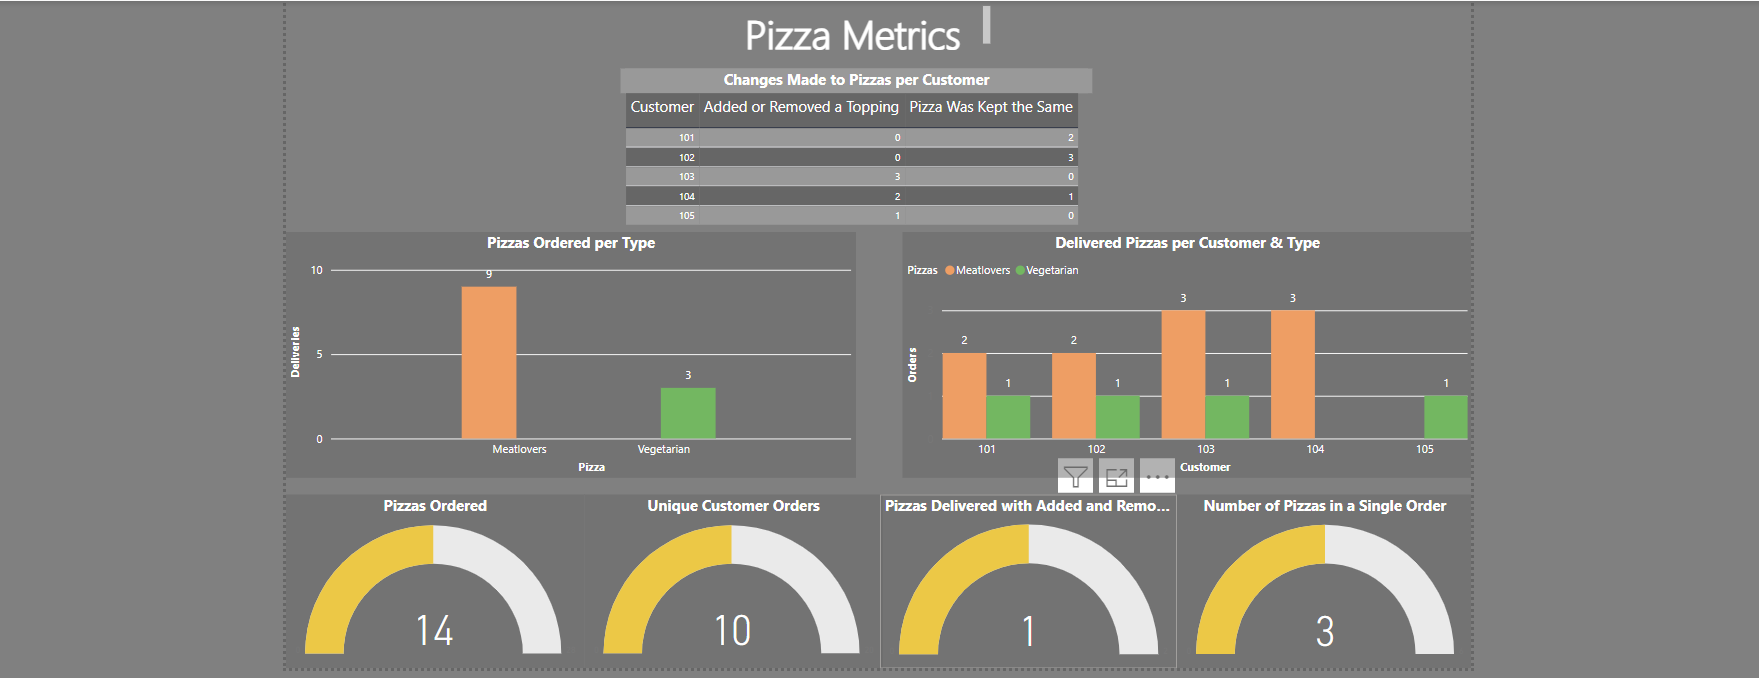

This screenshot's page, from the dashboard's own definition file:
{"tool":"powerbi","page":{"name":"Pizza Metrics","canvas":[1280,720],"ordinal":0},"visuals":[{"type":"gauge","title":"Highest Number of Pizzas Delivered in a Single Order","fields":{"Y":["CountNonNull(Query6.pizza_count)"]},"box":[957.8,532.3,322,187.7],"z":0},{"type":"gauge","title":"Pizzas Ordered","fields":{"Y":["Sum(Query1.pizza_count)"]},"box":[0,532.7,322.2,187.8],"z":1000},{"type":"gauge","title":"Unique Customer Orders","fields":{"Y":["Sum(Query2.order_count)"]},"box":[322,532.3,322,187.7],"z":2000},{"type":"tableEx","title":"Changes Made to Pizzas per Customer","fields":{"Values":["Query7.customer_id","Query7.at_least_1_change","Query7.no_changes"]},"box":[360.8,72.3,509.7,176.4],"z":3000},{"type":"gauge","title":"Pizzas Delivered with Added and Removed Toppings","fields":{"Y":["Sum(Query8.order_count)"]},"box":[640.7,532.3,320.4,187.7],"z":4000},{"type":"textbox","box":[466,0,299.3,58.2],"z":5000},{"type":"clusteredColumnChart","title":"Pizzas Ordered per Type","fields":{"Category":["Query4.pizza_name"],"Y":["Sum(Query4.pizza_count)"],"Series":["Query4.pizza_name"]},"box":[0,249.4,615.3,265.6],"z":6000},{"type":"clusteredColumnChart","title":"Delivered Pizzas per Customer & Type","fields":{"Y":["Sum(Query5.pizza_count)"],"Category":["Query5.customer_id"],"Series":["Query5.pizza_name"]},"box":[665.5,249.4,615.3,265.6],"z":7000}]}

Visuals, with their boxes on the page's 1280x720 design canvas (x1, y1, x2, y2). These are canvas units, not pixel positions in the 1759x678 screenshot, which may show the page scaled, cropped or inside an application window:
"Highest Number of Pizzas Delivered in a Single Order" gauge: (left=958, top=532, right=1280, bottom=720)
"Pizzas Ordered" gauge: (left=0, top=533, right=322, bottom=720)
"Unique Customer Orders" gauge: (left=322, top=532, right=644, bottom=720)
"Changes Made to Pizzas per Customer" tableEx: (left=361, top=72, right=870, bottom=249)
"Pizzas Delivered with Added and Removed Toppings" gauge: (left=641, top=532, right=961, bottom=720)
textbox: (left=466, top=0, right=765, bottom=58)
"Pizzas Ordered per Type" clusteredColumnChart: (left=0, top=249, right=615, bottom=515)
"Delivered Pizzas per Customer & Type" clusteredColumnChart: (left=666, top=249, right=1281, bottom=515)
